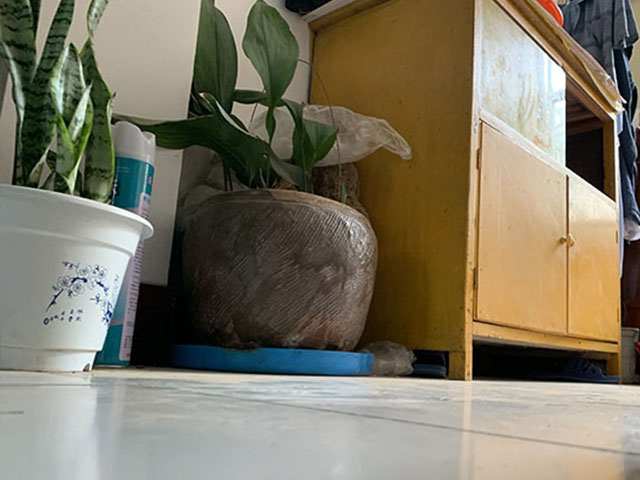cabinet: (317, 1, 628, 382)
